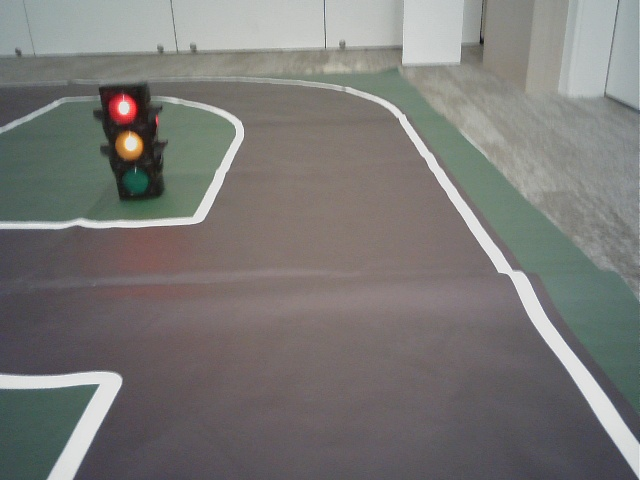red: (102, 92, 154, 193)
